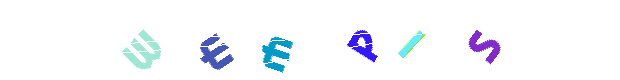E: (189, 0, 269, 80), (236, 0, 316, 80)
I: (323, 0, 403, 80)
P: (271, 0, 351, 80)
S: (441, 0, 521, 80)
W: (175, 0, 255, 80)
